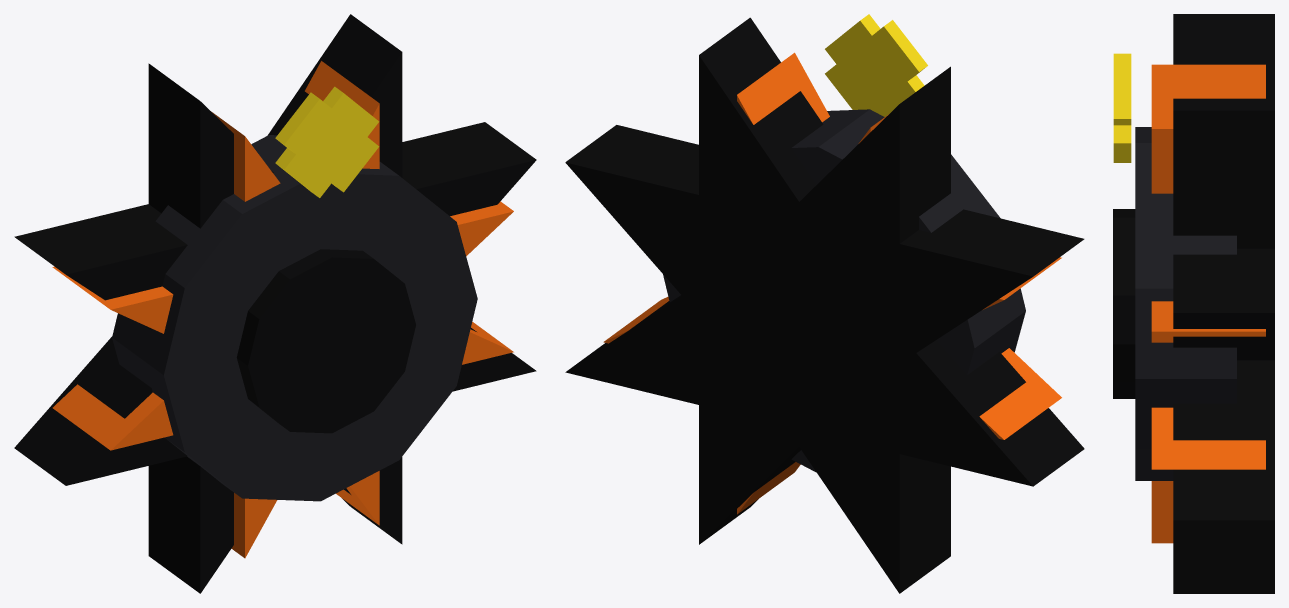
Rendered from Leon_NinjaStar.obj.
3 renders of one model, left to right at view 1: azimuth 30°, elevation 25°; view 2: azimuth 150°, elevation 25°; view 3: azimuth 270°, elevation 25°, orthographic.
Parts seen in each view (by area): view 1: CenterRingOuter, Blade, CenterHoleDark, OrangeEdge, YellowMark; view 2: Blade, CenterRingOuter, OrangeEdge, YellowMark; view 3: Blade, CenterRingOuter, OrangeEdge, CenterHoleDark, YellowMark.
Part boxes in pixels (bbox=[...]): CenterRingOuter: bbox=[112, 135, 477, 501]; Blade: bbox=[14, 14, 536, 593]; CenterHoleDark: bbox=[236, 249, 415, 433]; OrangeEdge: bbox=[52, 61, 513, 558]; YellowMark: bbox=[275, 86, 379, 197]; Blade: bbox=[565, 17, 1084, 593]; CenterRingOuter: bbox=[663, 109, 1025, 472]; OrangeEdge: bbox=[603, 52, 1061, 514]; YellowMark: bbox=[825, 14, 927, 116]; Blade: bbox=[1173, 14, 1274, 593]; CenterRingOuter: bbox=[1135, 127, 1236, 480]; OrangeEdge: bbox=[1151, 64, 1265, 543]; CenterHoleDark: bbox=[1113, 209, 1135, 398]; YellowMark: bbox=[1113, 53, 1131, 162].
Bounding box in the file's own units: 0.42 × 0.4224 × 0.1275.
